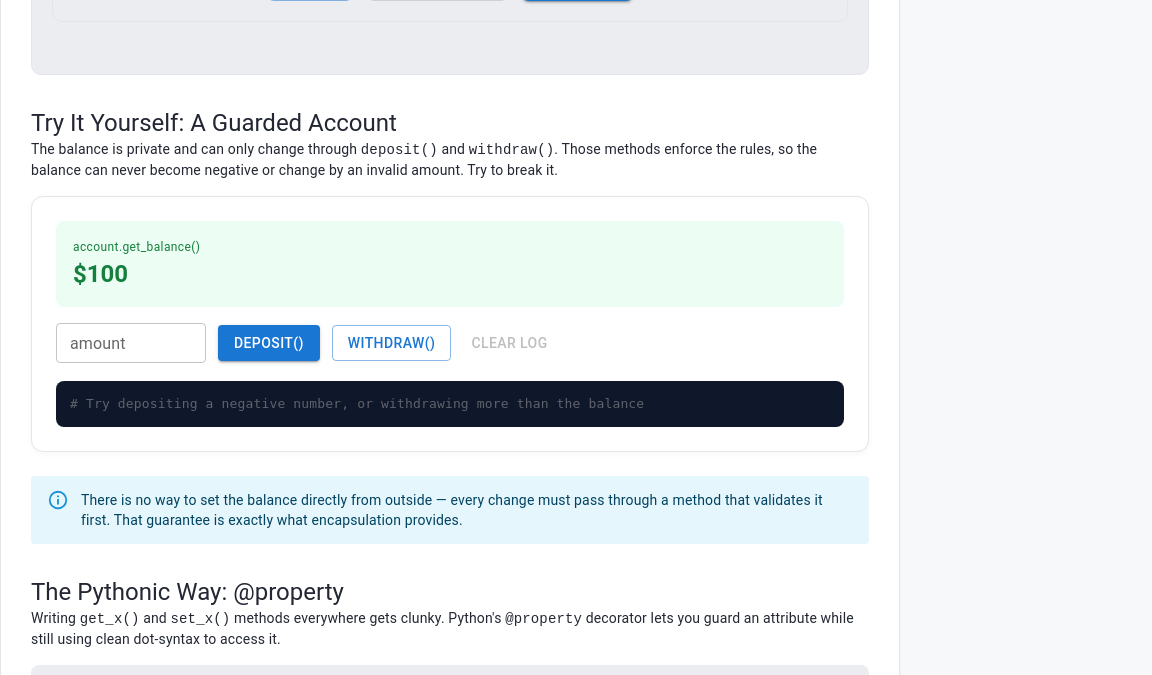
Test: EncapsulationConcept › accepts a valid deposit
This screenshot has width=1152, height=675.
(page scrolled)
Step 1. Type "50" into the number field → (131, 343), box [56,323,206,363]
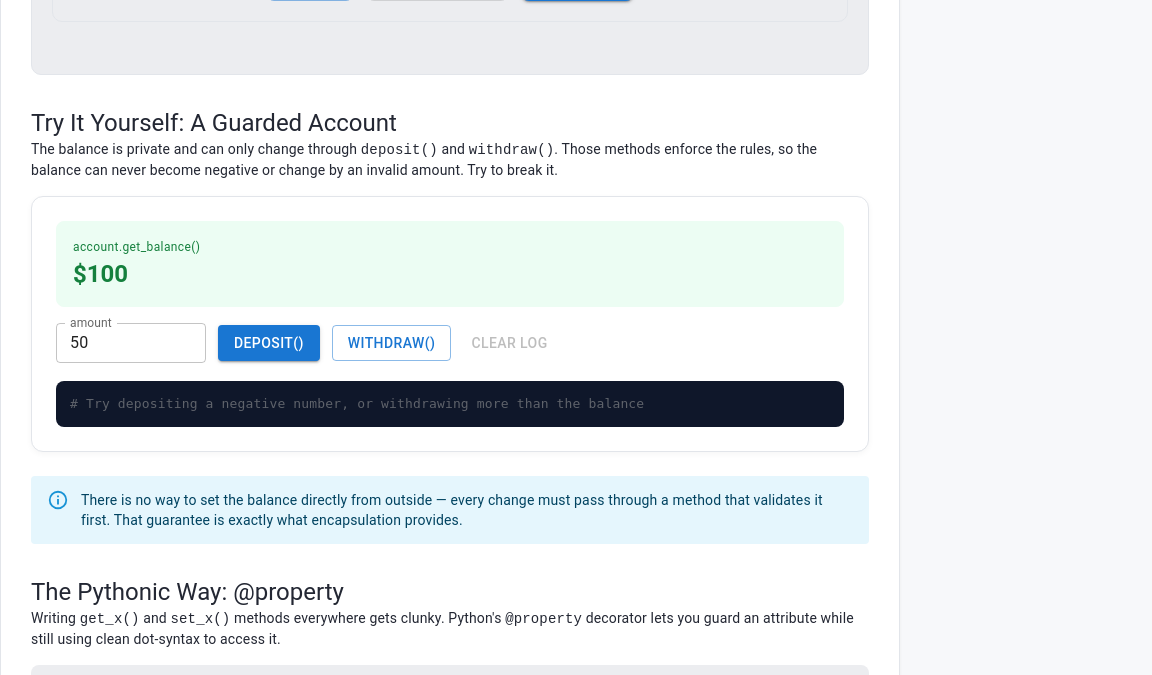
Step 2. Click the button "deposit()" → click(269, 343), box [218,324,320,361]
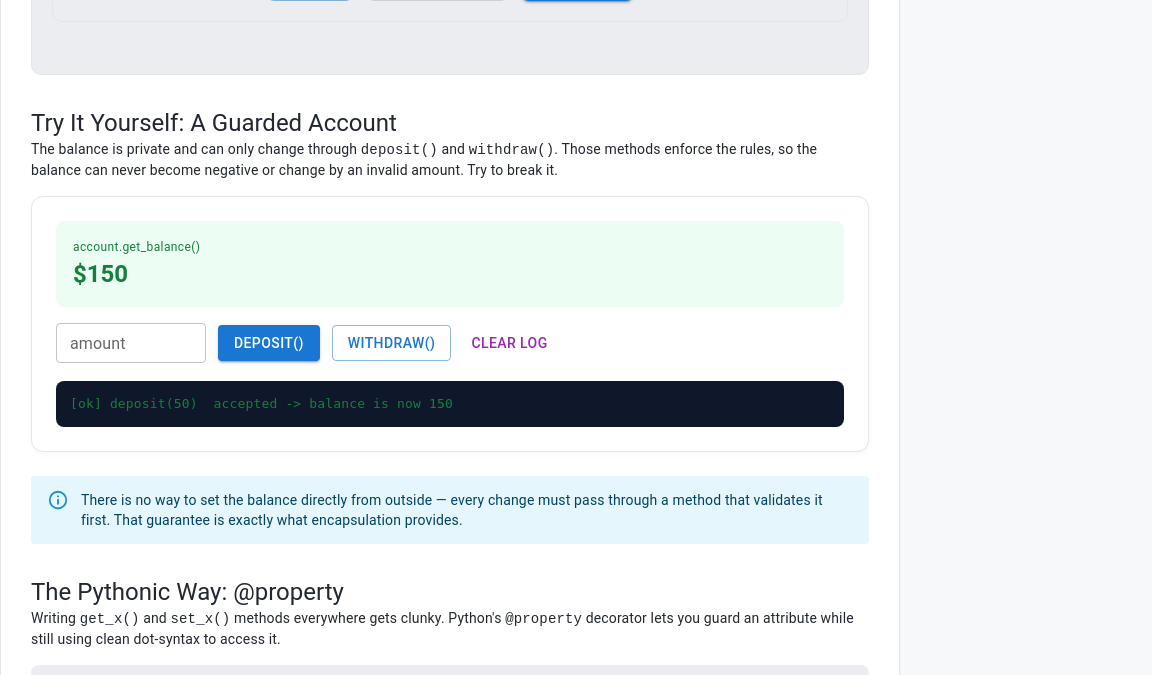
Now the heading "$150" is shown, box [73,260,128,288]
